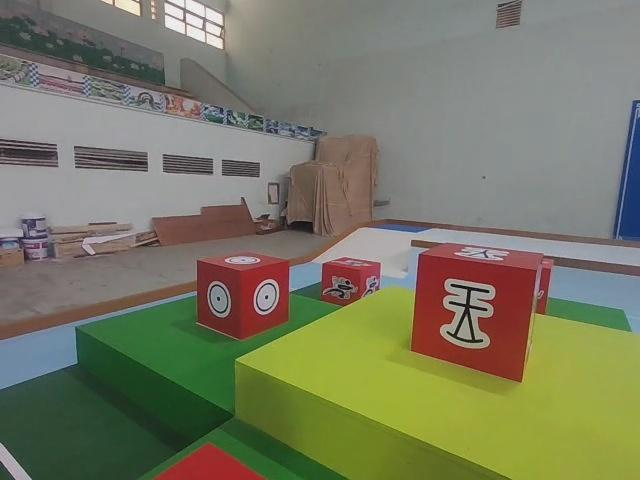R1: (317, 254, 383, 307)
R2 Real: (406, 242, 545, 383), (195, 253, 289, 339)
